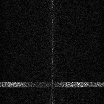wifi: (1, 81, 104, 87)
